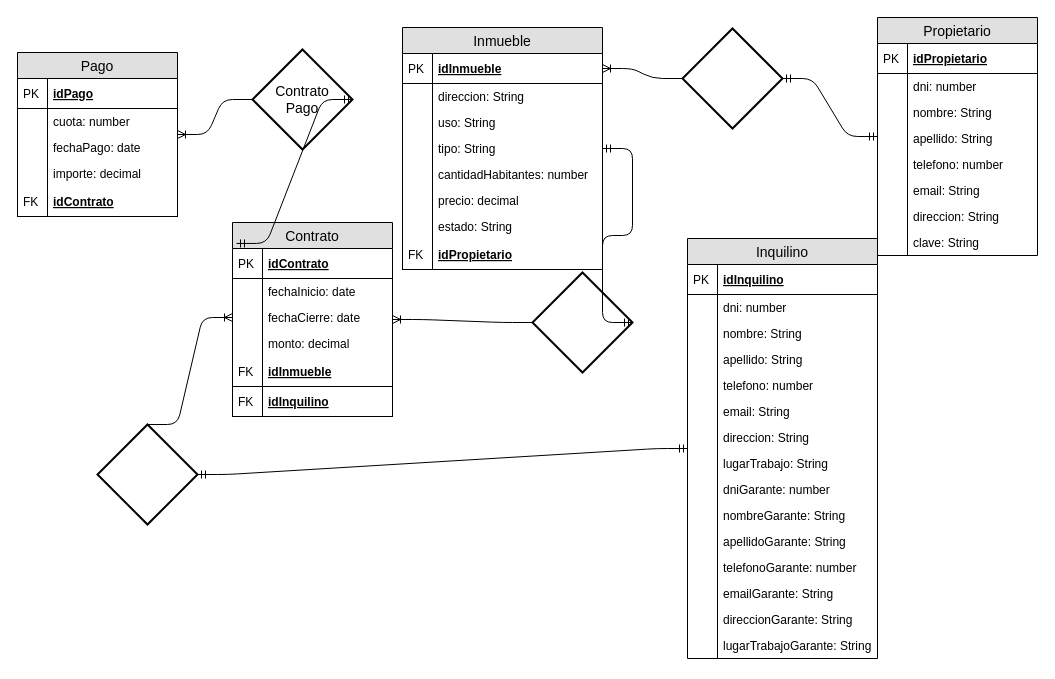
Some shapes in this 1055 by 679 pixel diagram are drawn without their labels. The shapes that lost their labels are listed below. From the top down, each one's centre as x and y in pixels, then its label:
At (732,78): "Propietario Inmueble".
At (582,322): "Inmueble Contrato".
At (147,474): "Inquilino Contrato".
